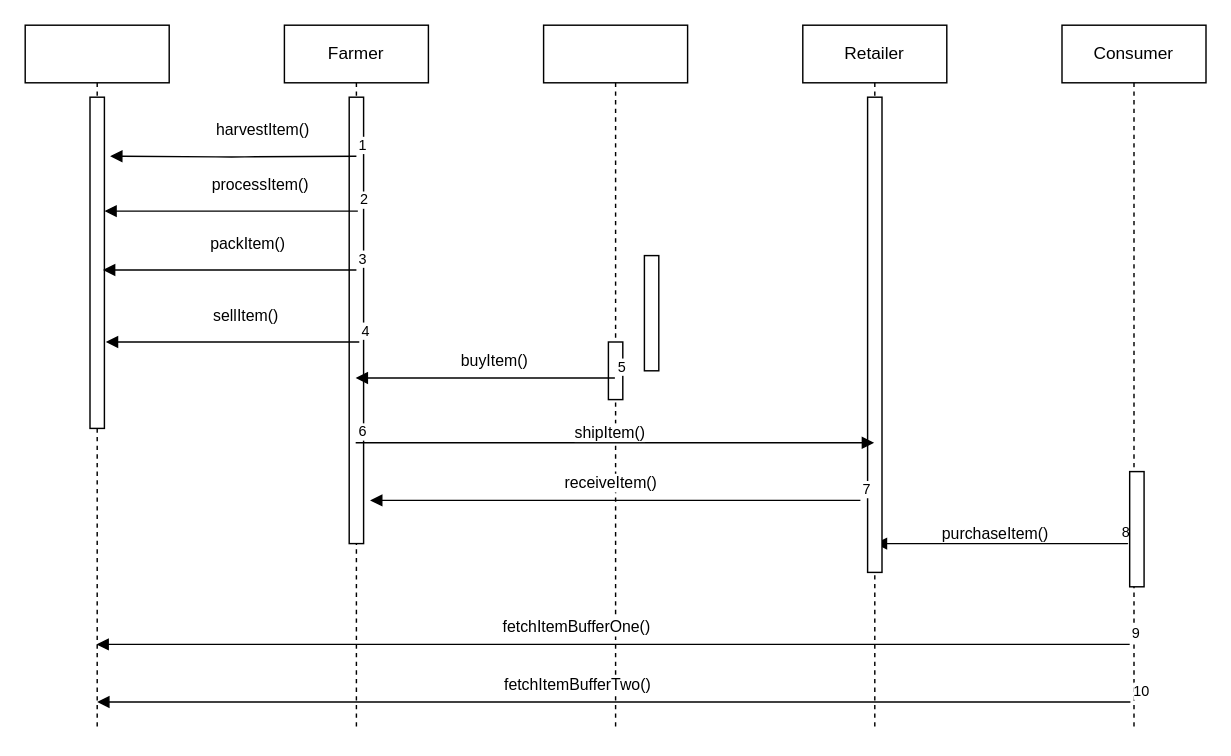
The diagram is 1231 pixels wide and 756 high, and some of its shapes have lost their labels. The box of each missing label's shape, as (x1, y1, x2, y2) in pixels:
CoffeeBean: (24, 24, 169, 731)
Distributor: (542, 24, 688, 731)
